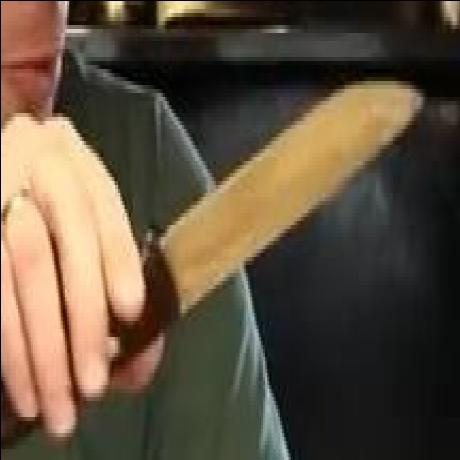1: (0, 0, 290, 460)
weapon: (166, 77, 419, 344)
